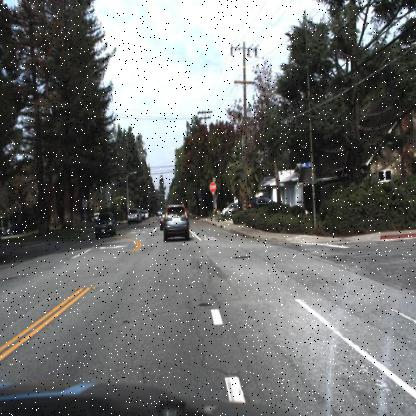car: (162, 203, 192, 245), (94, 208, 115, 241), (244, 193, 277, 214), (94, 210, 116, 238), (245, 192, 279, 210), (2, 221, 34, 236), (3, 222, 30, 236), (227, 199, 243, 220), (126, 206, 142, 226), (220, 202, 234, 220)
